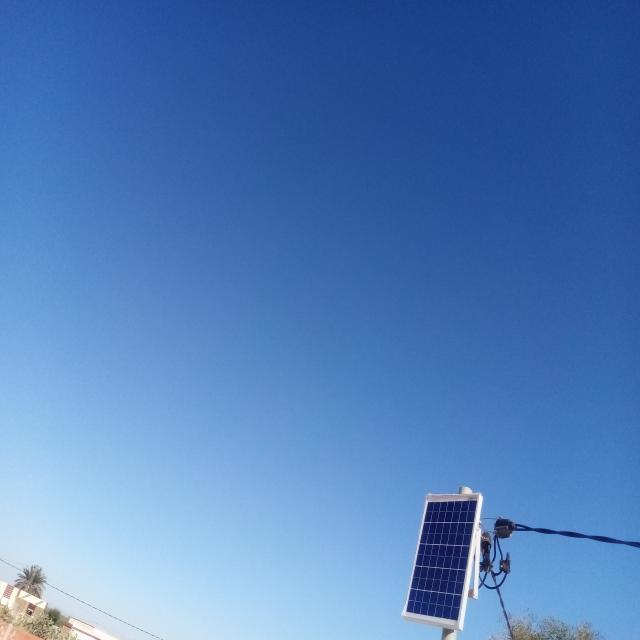no faulty: (404, 493, 481, 628)
